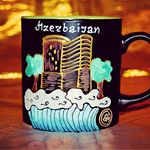cups: (20, 14, 150, 134)
